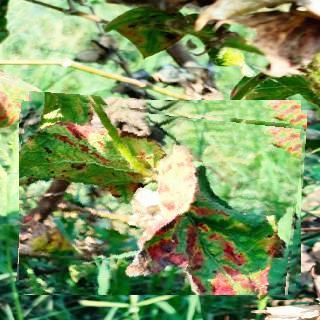blight: (19, 96, 304, 295)
